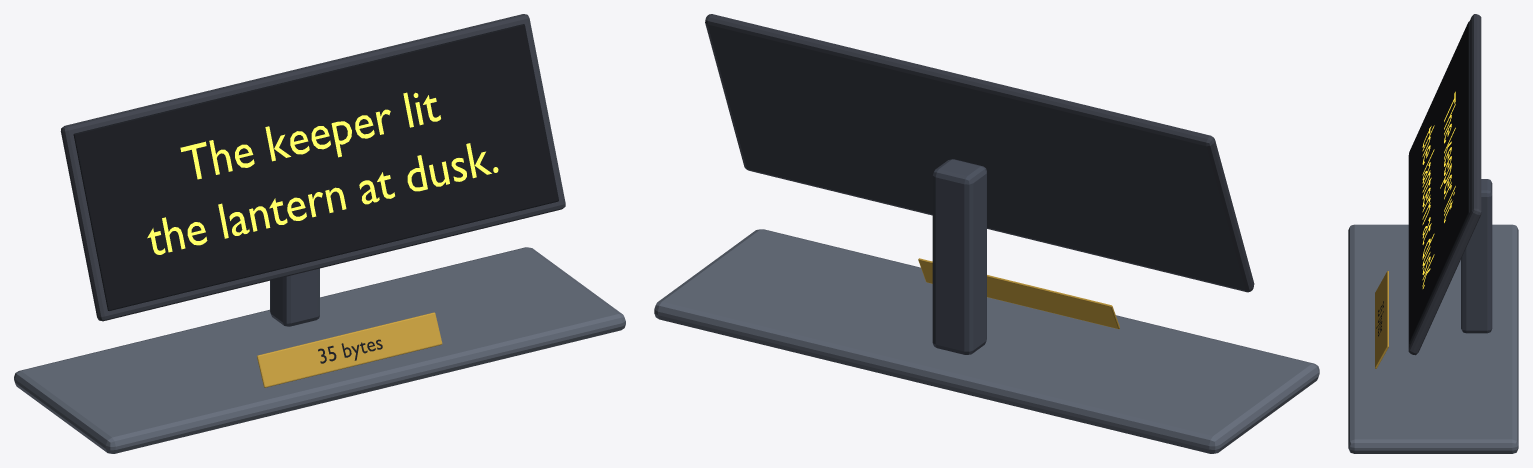
The model's file is input_text.glb.
3 renders of one model, left to right at view 1: azimuth 30°, elevation 25°; view 2: azimuth 150°, elevation 25°; view 3: azimuth 270°, elevation 25°, orthographic. The views are drawn at different scales.
Parts seen in each view (by area): view 1: display_glass, stand, display_frame, display_l0, size_p, post; view 2: display_frame, stand, post, size_p; view 3: stand, display_glass, display_frame, post, display_l0, size_p.
Boxes of the visible parts, bbox=[...] form: display_glass: bbox=[73, 24, 558, 310]; stand: bbox=[14, 247, 625, 453]; display_frame: bbox=[60, 14, 565, 321]; display_l0: bbox=[147, 92, 498, 254]; size_p: bbox=[257, 312, 442, 387]; post: bbox=[270, 268, 319, 326]; display_frame: bbox=[705, 14, 1254, 292]; stand: bbox=[654, 229, 1319, 453]; post: bbox=[932, 159, 986, 354]; size_p: bbox=[918, 258, 1119, 329]; stand: bbox=[1348, 224, 1518, 453]; display_glass: bbox=[1409, 21, 1470, 343]; display_frame: bbox=[1408, 14, 1481, 355]; post: bbox=[1461, 179, 1492, 333]; display_l0: bbox=[1422, 91, 1455, 288]; size_p: bbox=[1375, 271, 1388, 368].
Bounding box in the file's own units: 0.99 × 0.4927 × 0.3243.
